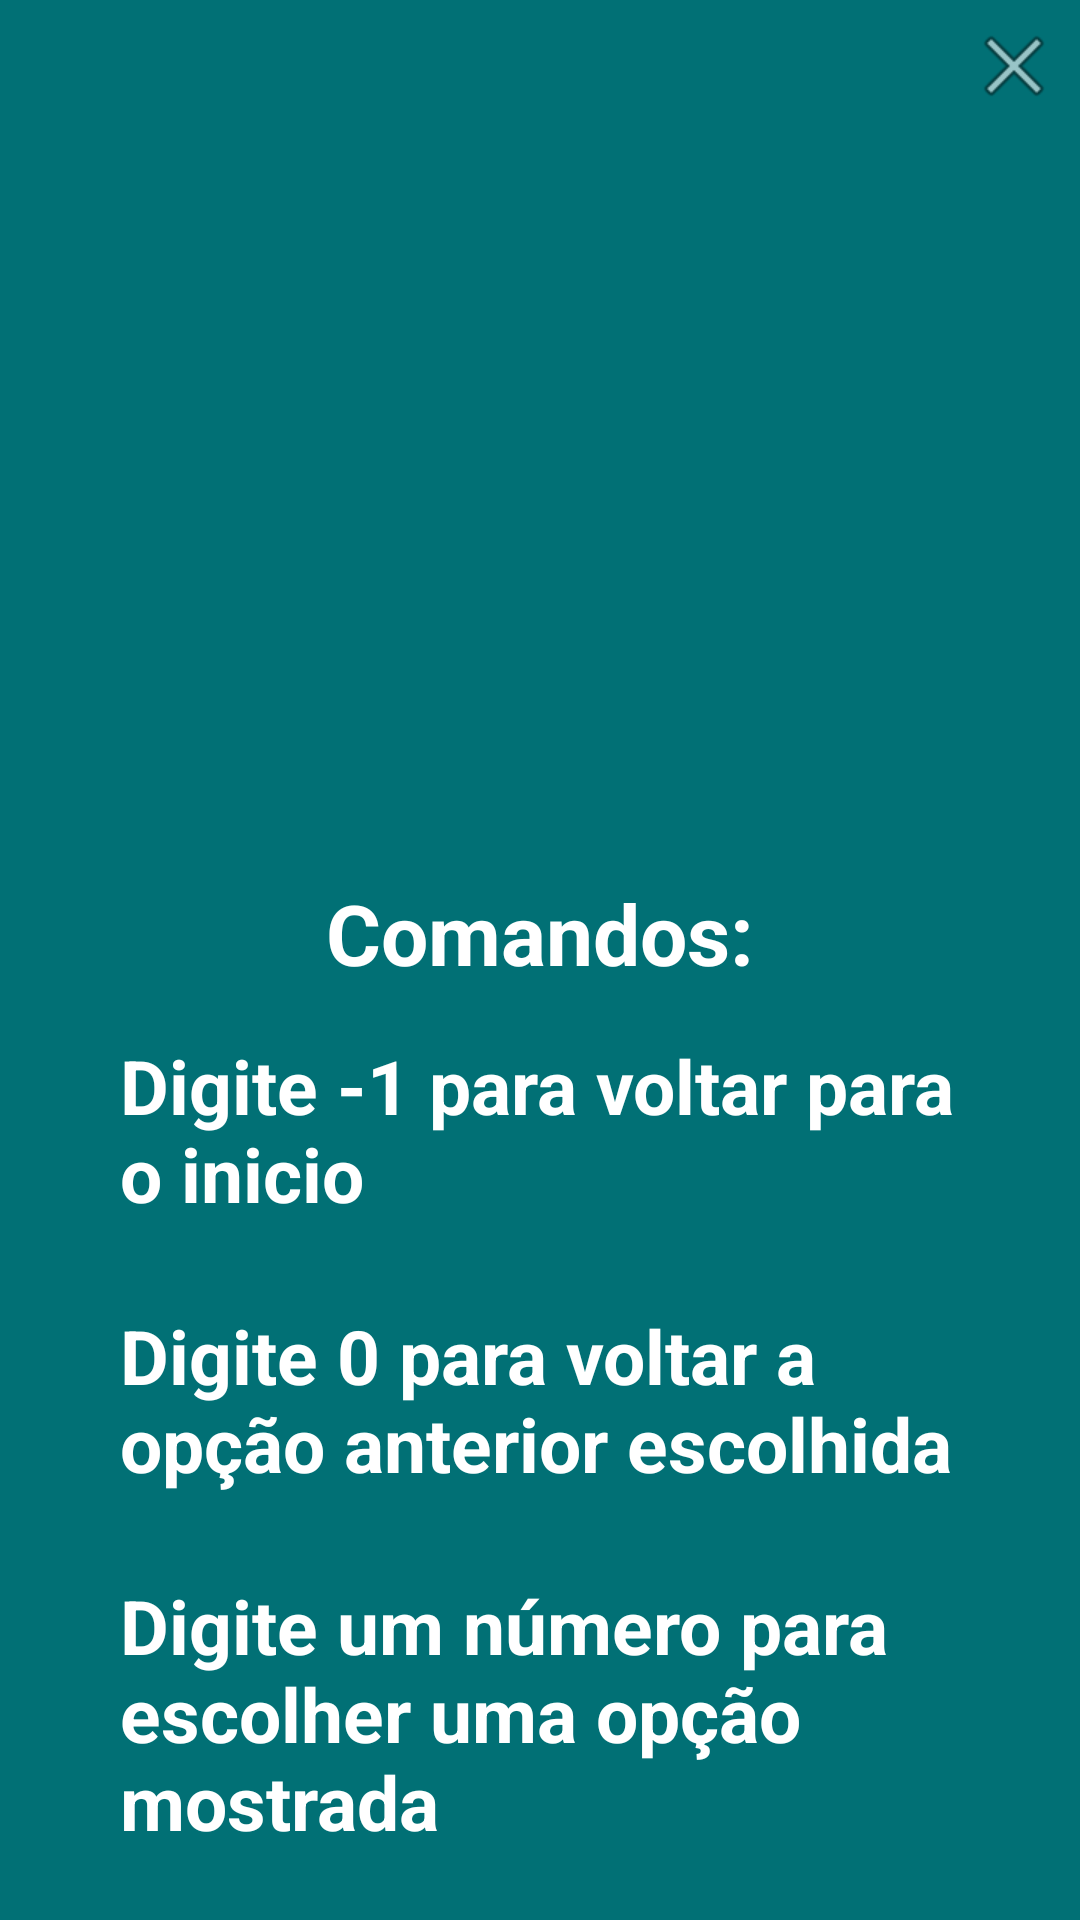

Where to tap for icons on this 1080px×1920px app screen, as [x,y]:
close clear cancel: [1014,66]
